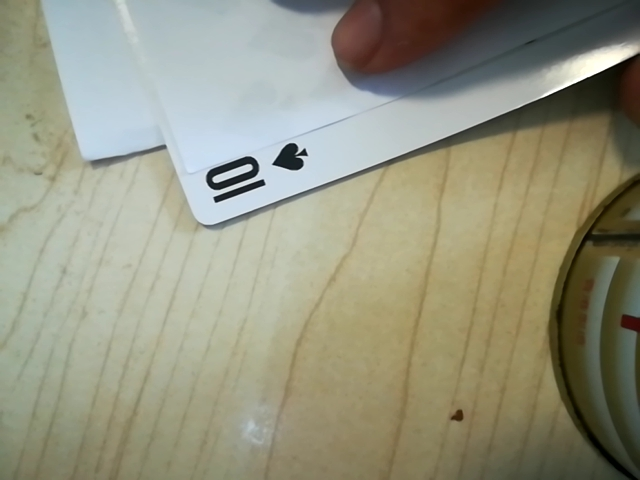ht 10: (187, 126, 329, 214)
